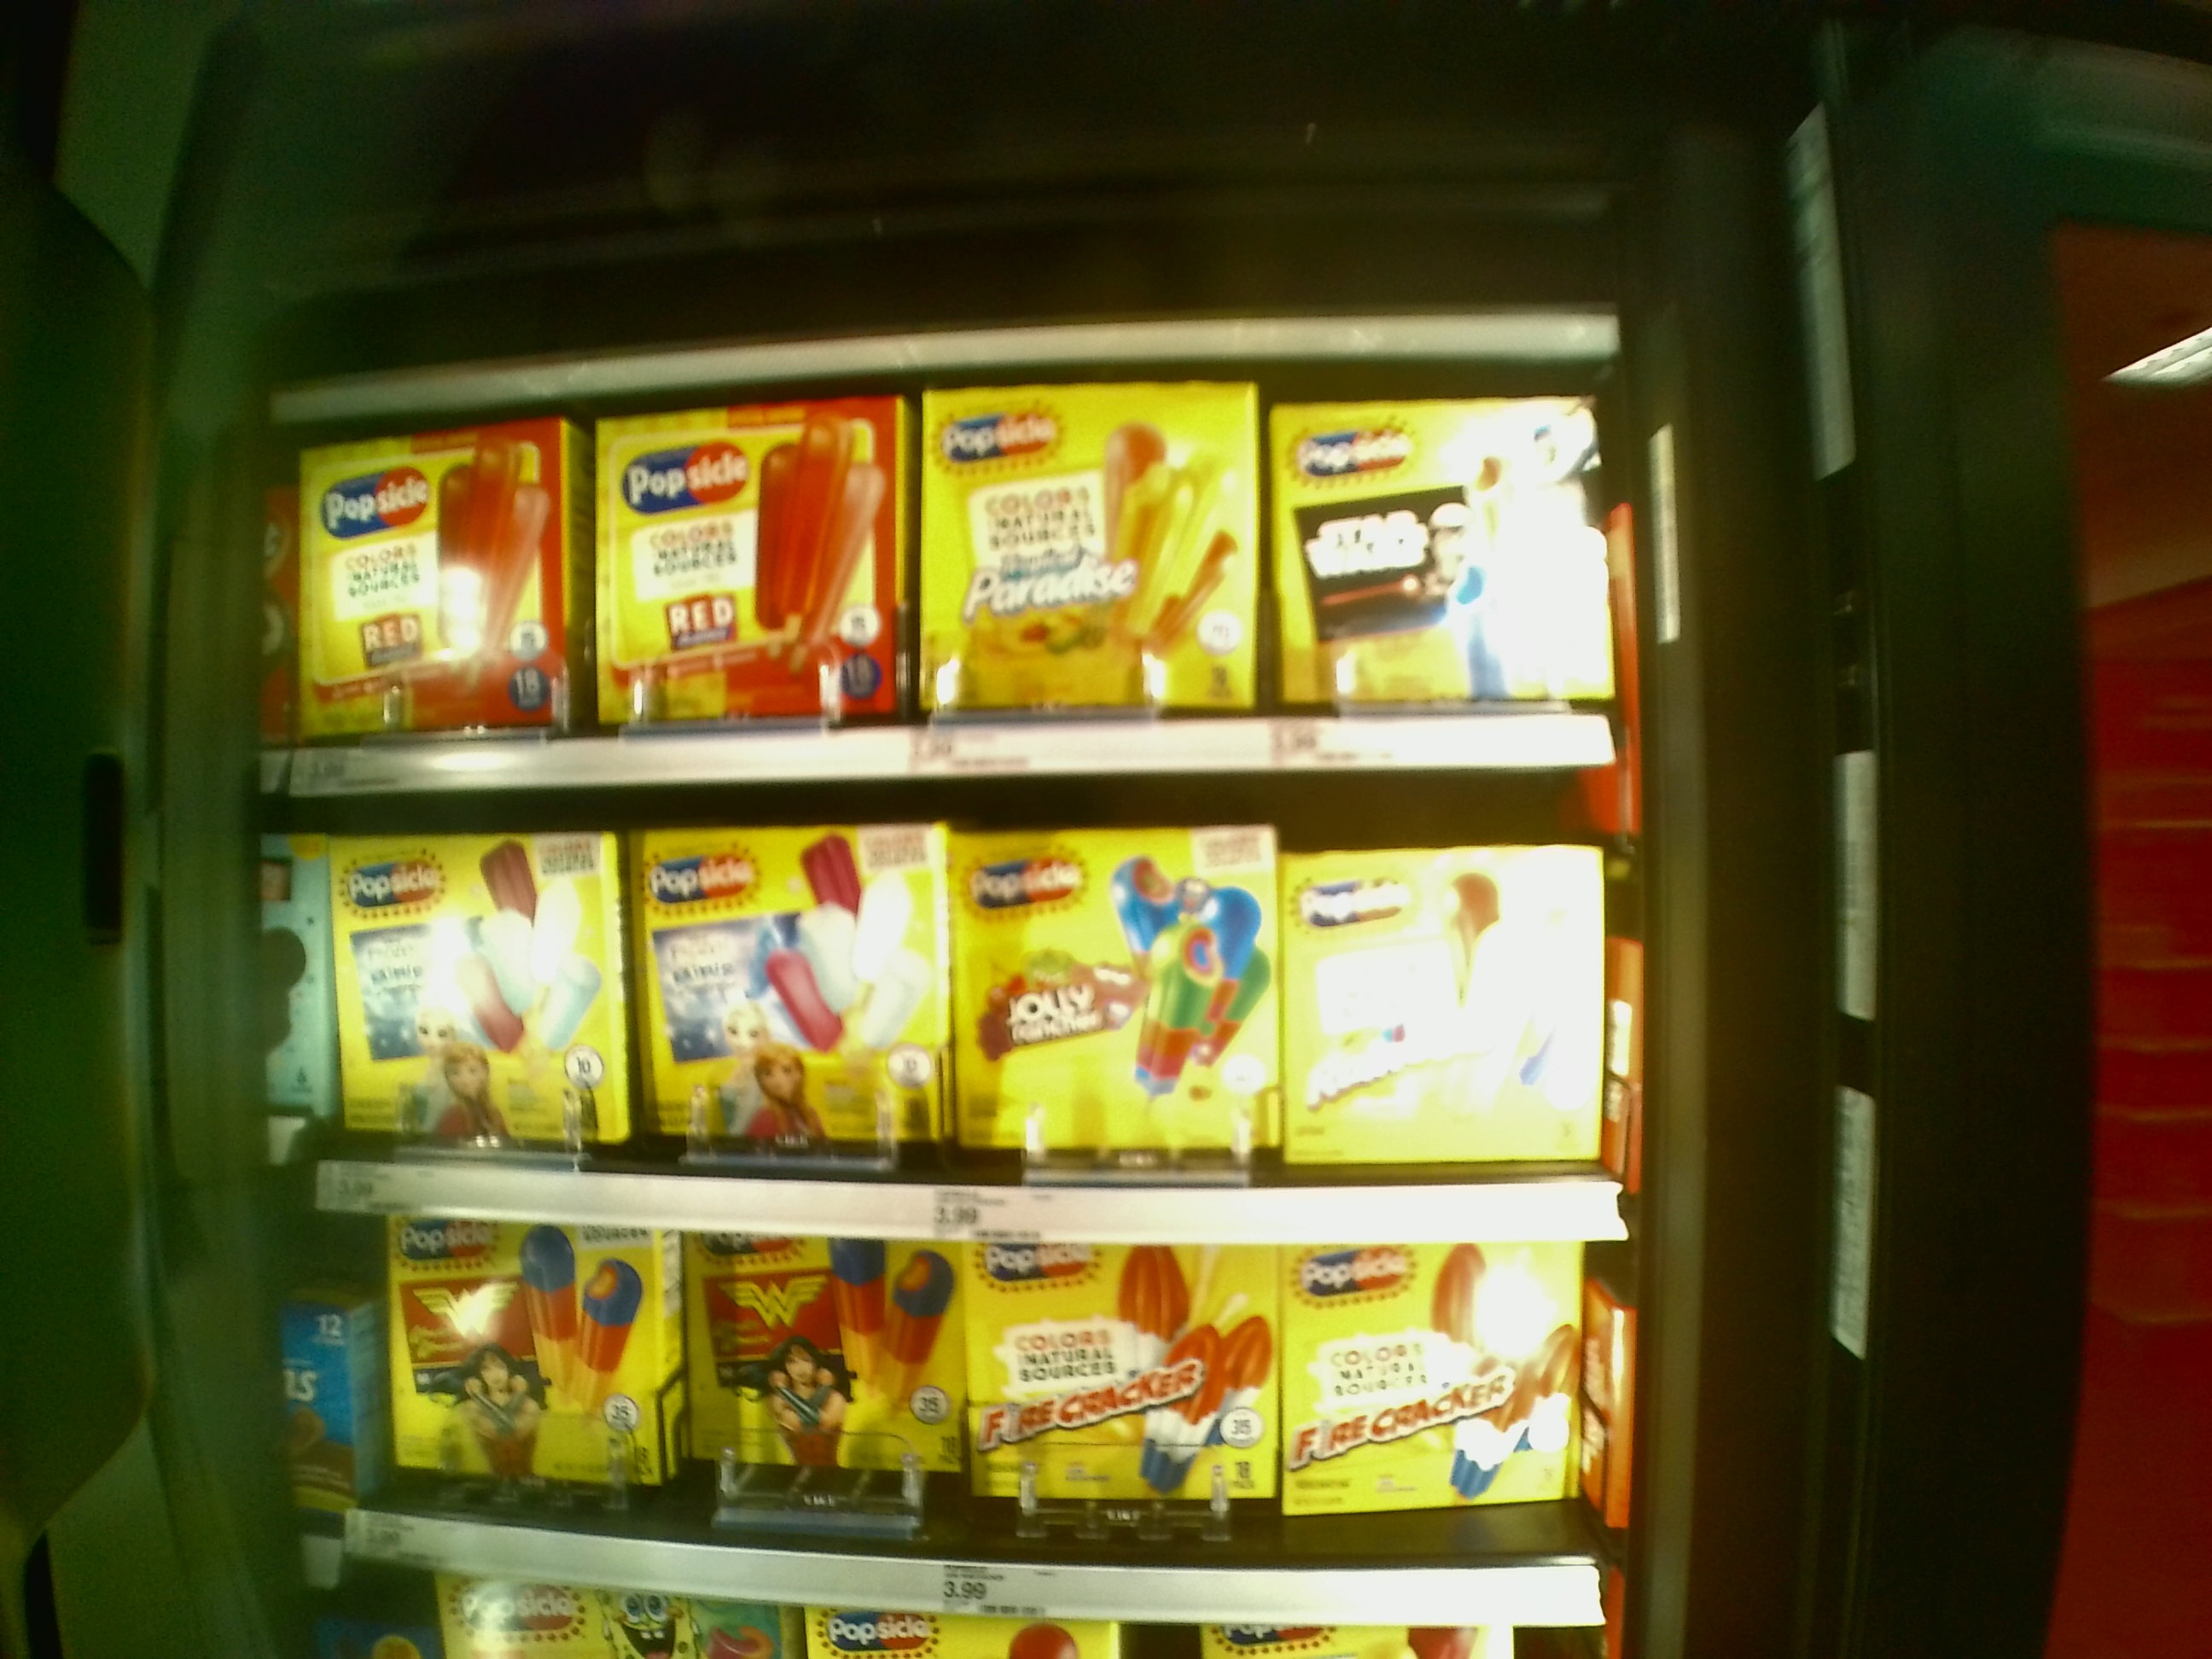shelf: (298, 786, 1627, 1244), (284, 354, 1618, 781), (345, 1232, 1613, 1633)
